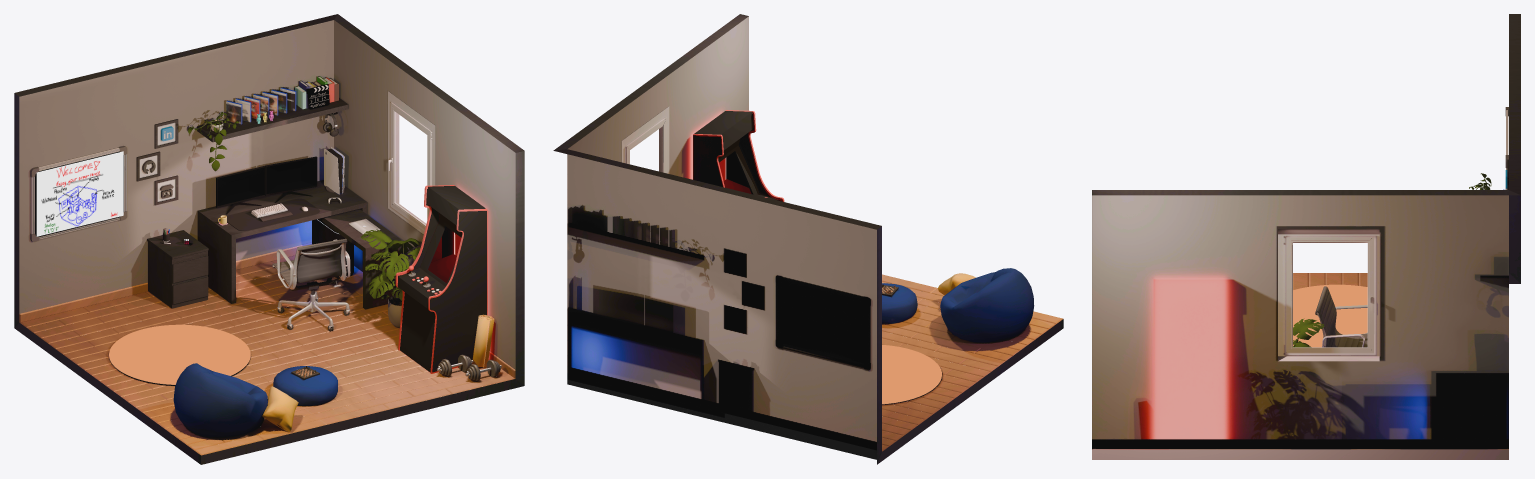
The model's file is unified_room.glb.
The picture shows the model from 3 angles, left to right: view 1: azimuth 30°, elevation 25°; view 2: azimuth 150°, elevation 25°; view 3: azimuth 270°, elevation 25°; orthographic projection. The views are drawn at different scales.
Visible parts, largest first — view 1: BAKED_1, BAKED_2, ArcadeMachine, BAKED_3, Carpet, Whiteboard_Canvas, BAKED_2.001, RightMonitor, LeftMonitor, Whiteboard, Linkedin, Itchio (+1 smaller); view 2: BAKED_1, ArcadeMachine, Carpet; view 3: BAKED_1, Carpet, BAKED_2.001, BAKED_3.
Boxes of the visible parts, <box> form: BAKED_1: <box>14,14,524,464</box>; BAKED_2: <box>147,98,494,367</box>; ArcadeMachine: <box>395,185,487,373</box>; BAKED_3: <box>160,76,501,381</box>; Carpet: <box>109,324,250,384</box>; Whiteboard_Canvas: <box>36,151,123,236</box>; BAKED_2.001: <box>272,238,350,294</box>; RightMonitor: <box>265,156,317,202</box>; LeftMonitor: <box>216,166,265,214</box>; Whiteboard: <box>30,146,127,241</box>; Linkedin: <box>154,119,178,148</box>; Itchio: <box>154,175,178,205</box>; BAKED_1: <box>553,14,1063,464</box>; ArcadeMachine: <box>693,110,784,201</box>; Carpet: <box>882,345,941,404</box>; BAKED_1: <box>1092,14,1520,459</box>; Carpet: <box>1293,284,1367,347</box>; BAKED_2.001: <box>1315,286,1367,347</box>; BAKED_3: <box>1293,173,1491,347</box>.
Bounding box in the file's own units: 9.36 × 6.5 × 9.36.
Materials: 12 (4 with a texture image).
